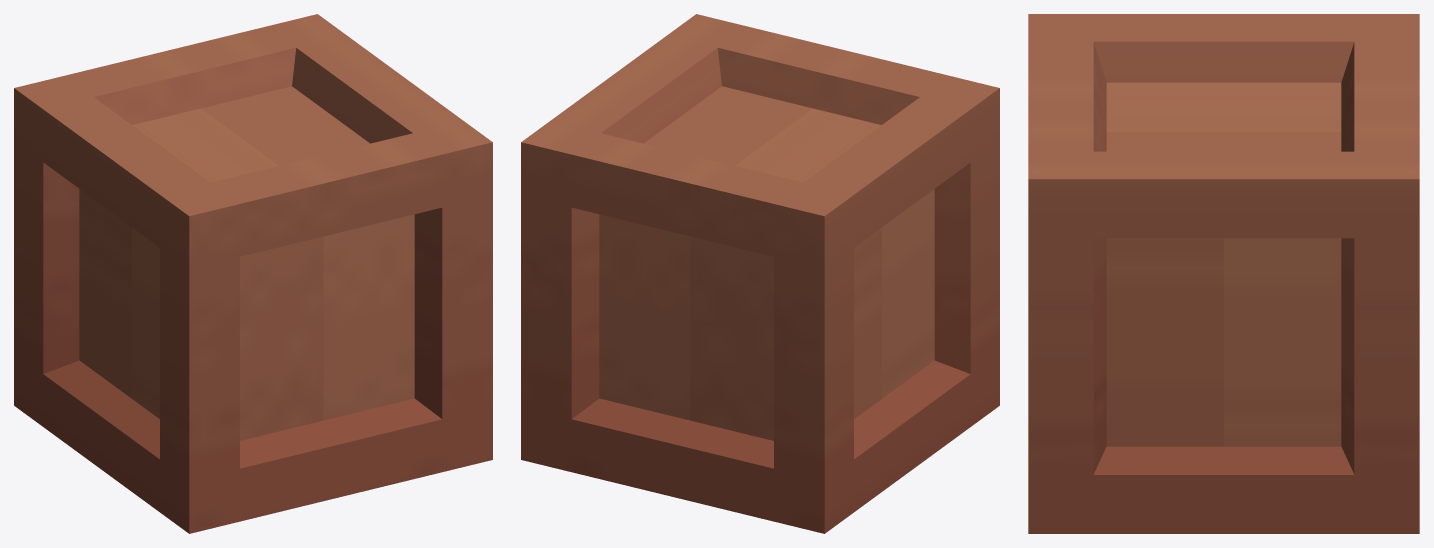
The model's file is crate_A_big.glb.
3 renders of one model, left to right at view 1: azimuth 30°, elevation 25°; view 2: azimuth 150°, elevation 25°; view 3: azimuth 270°, elevation 25°, orthographic. The views are drawn at different scales.
Visible parts, largest first — view 1: crate_A_big; view 2: crate_A_big; view 3: crate_A_big.
Boxes of the visible parts, <box> form: crate_A_big: <box>14,14,492,533</box>; crate_A_big: <box>521,14,999,533</box>; crate_A_big: <box>1028,14,1419,533</box>.
Bounding box in the file's own units: 0.21 × 0.21 × 0.21.
1 material, 1 textured.
